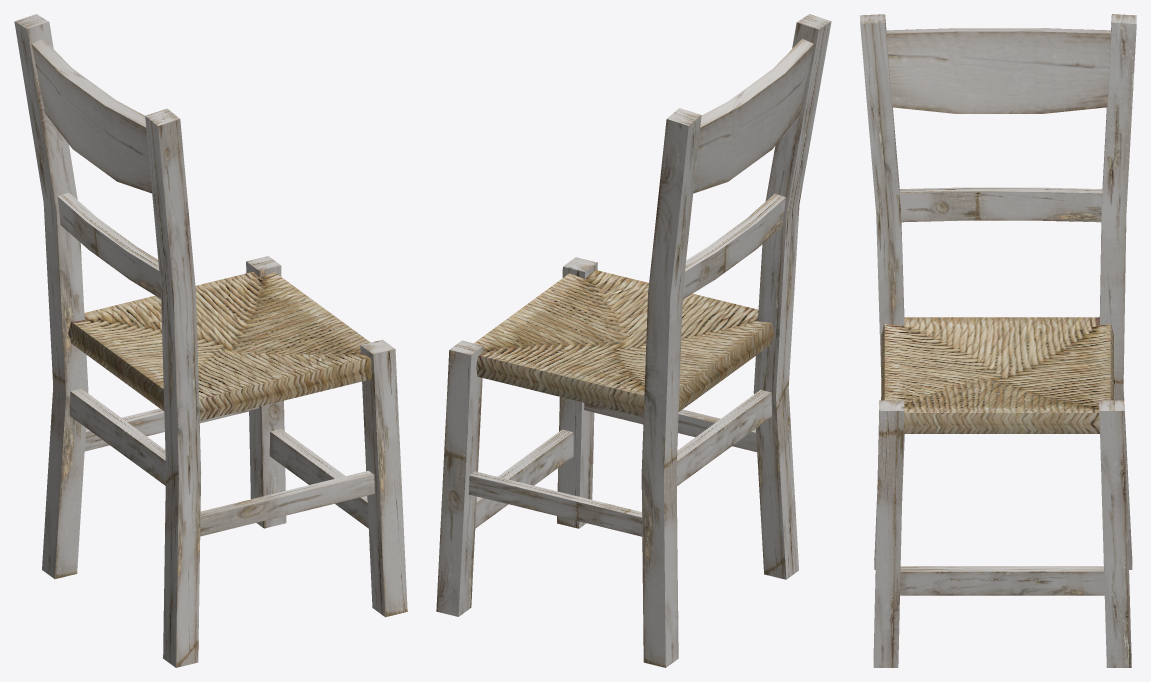
Rendered from ChairCafeWhite01.obj.
3 views of the same model, side by side, from view 1: azimuth 30°, elevation 25°; view 2: azimuth 150°, elevation 25°; view 3: azimuth 270°, elevation 25° (orthographic). The views are drawn at different scales.
Parts seen in each view (by area): view 1: Box03, OilTank01; view 2: Box03, OilTank01; view 3: Box03, OilTank01.
Part boxes in pixels (<box>): Box03: <box>14,14,407,667</box>; OilTank01: <box>68,272,372,420</box>; Box03: <box>436,14,831,667</box>; OilTank01: <box>474,270,774,416</box>; Box03: <box>860,14,1136,667</box>; OilTank01: <box>881,317,1113,433</box>.
Bounding box in the file's own units: 0.466 × 0.9529 × 0.4463.
Materials: 2 (2 with a texture image).
